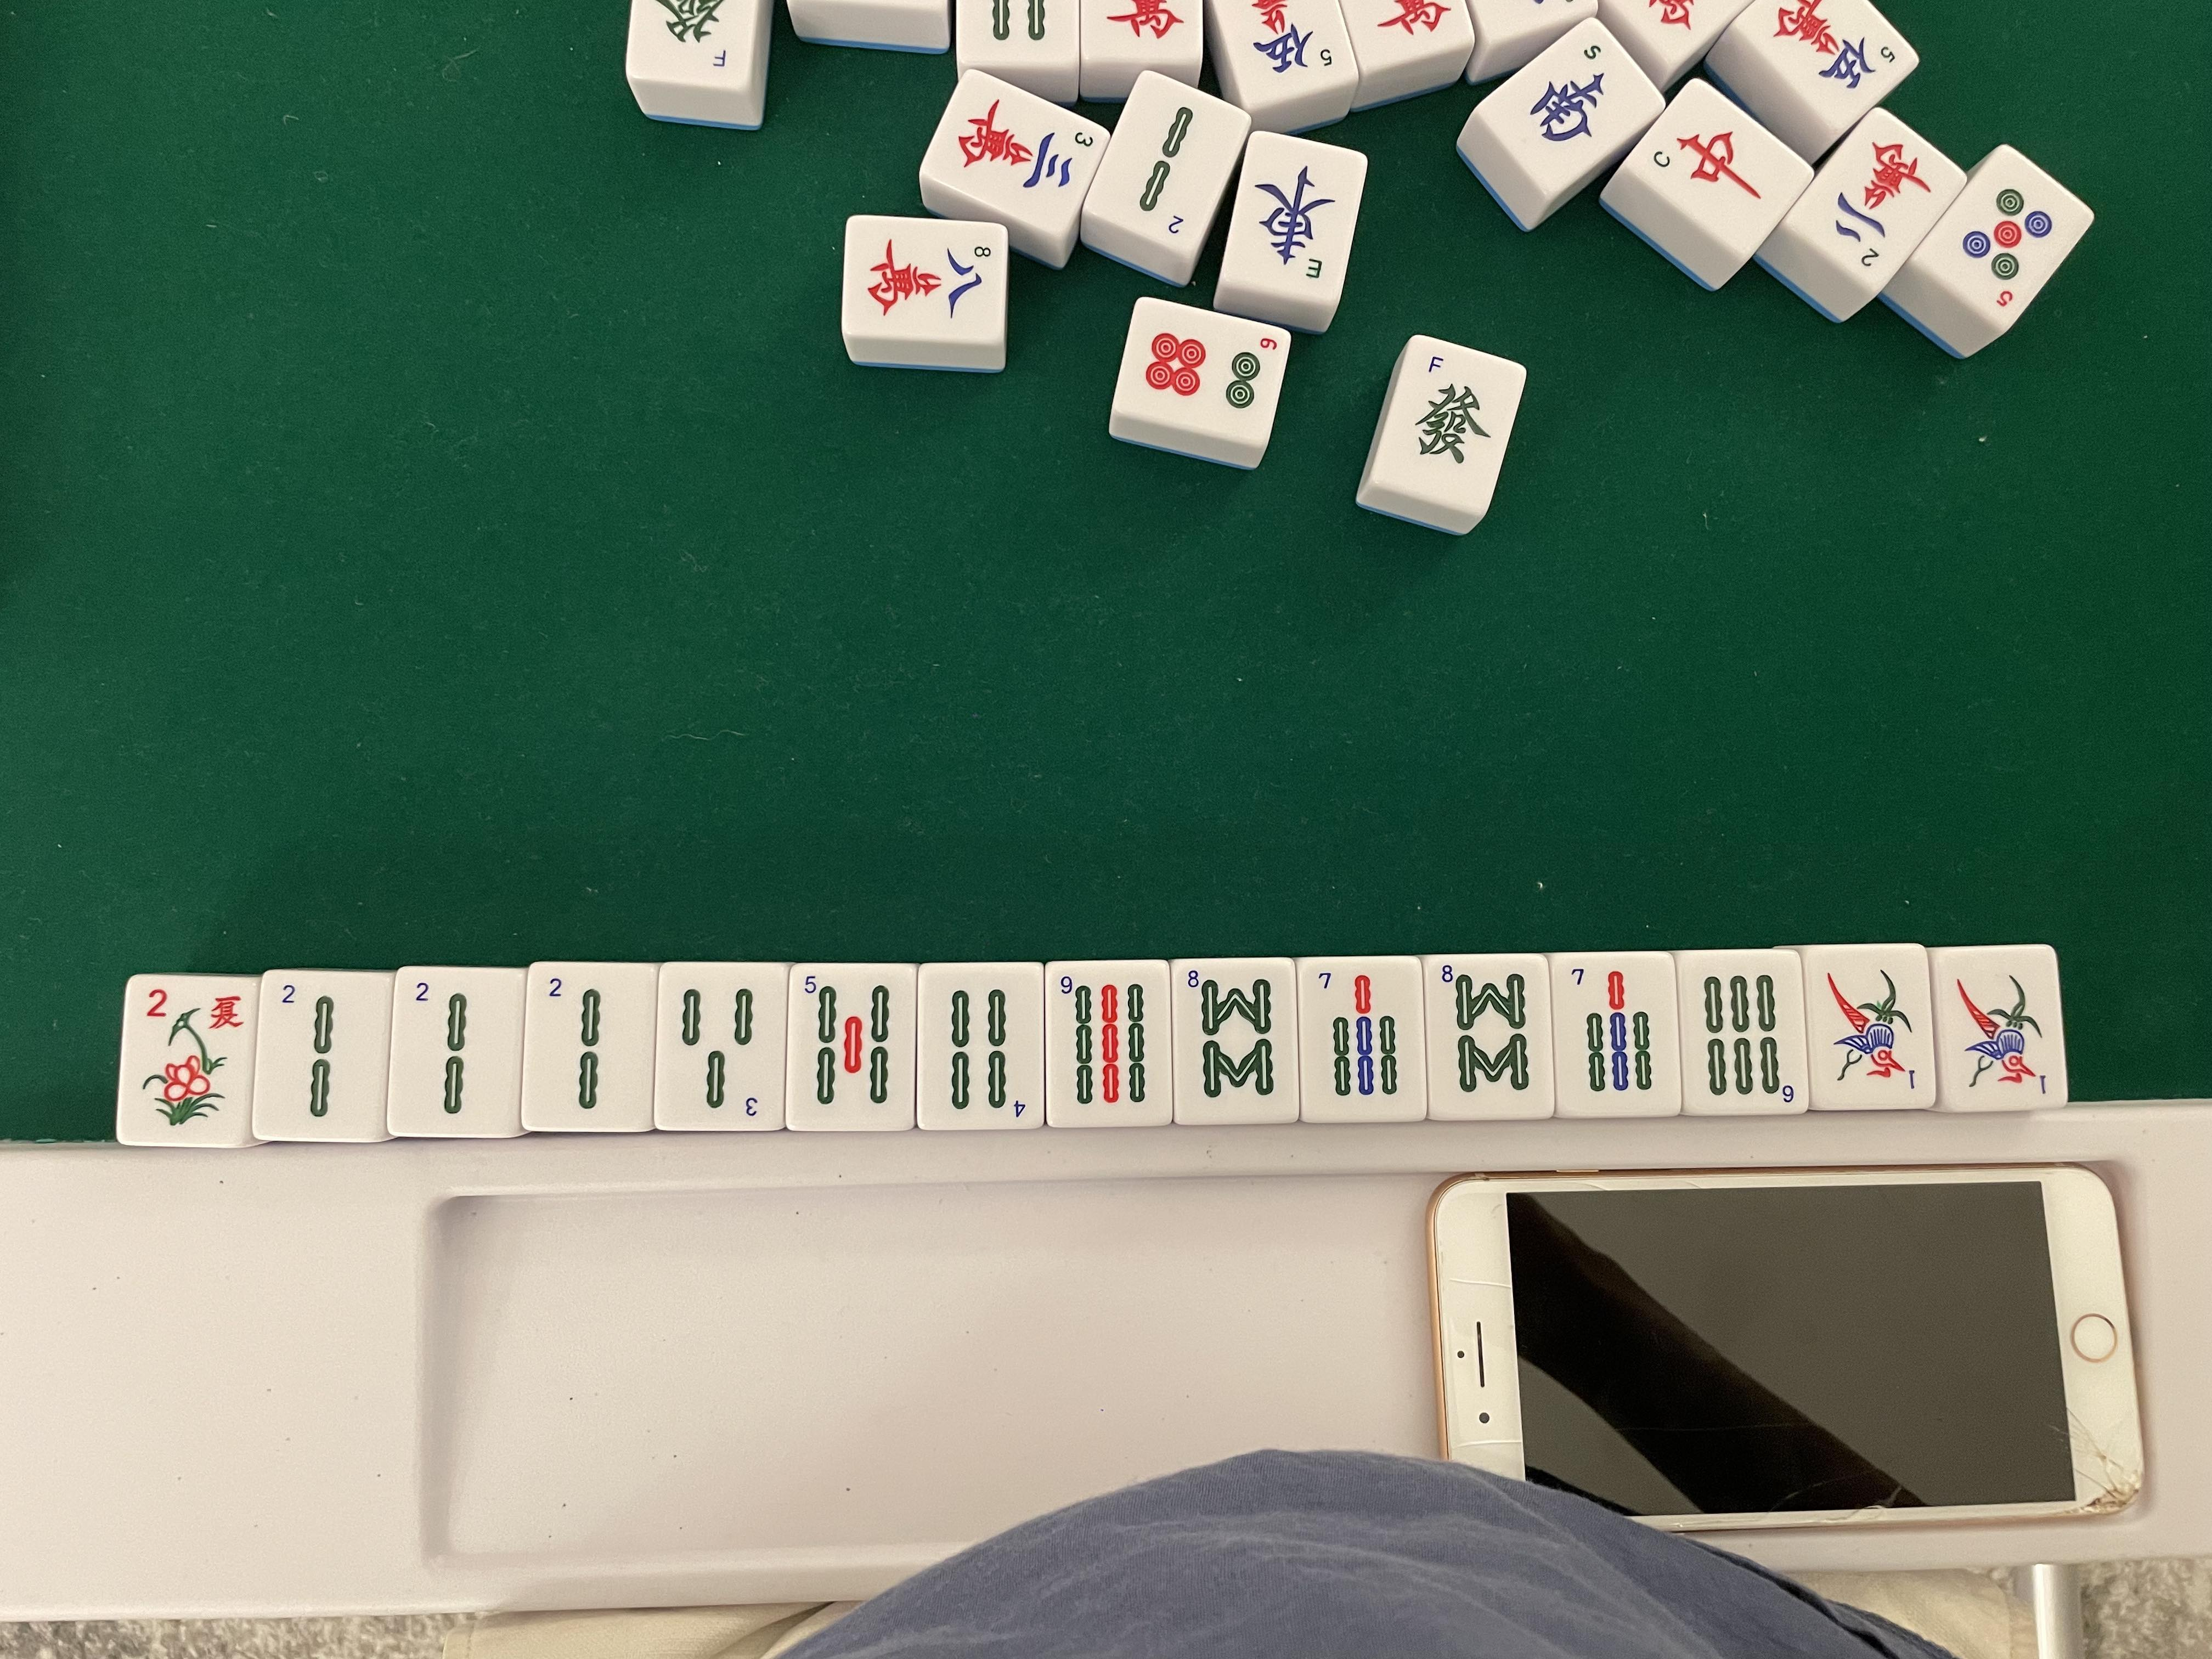bamboo-eight: (1176, 960, 1294, 1115), (1433, 962, 1548, 1107)
bamboo-five: (799, 969, 904, 1121)
bamboo-four: (928, 972, 1036, 1122)
bamboo-nine: (1050, 965, 1160, 1117)
bamboo-one: (1944, 955, 2059, 1101), (1818, 958, 1923, 1098)
bamboo-seven: (1557, 960, 1672, 1108), (1308, 964, 1420, 1112)
bamboo-six: (1689, 960, 1801, 1107)
bamboo-three: (664, 965, 777, 1122)
bamboo-two: (402, 974, 514, 1129), (268, 978, 380, 1129), (535, 971, 644, 1124)
flower-red_two: (131, 979, 240, 1141)
